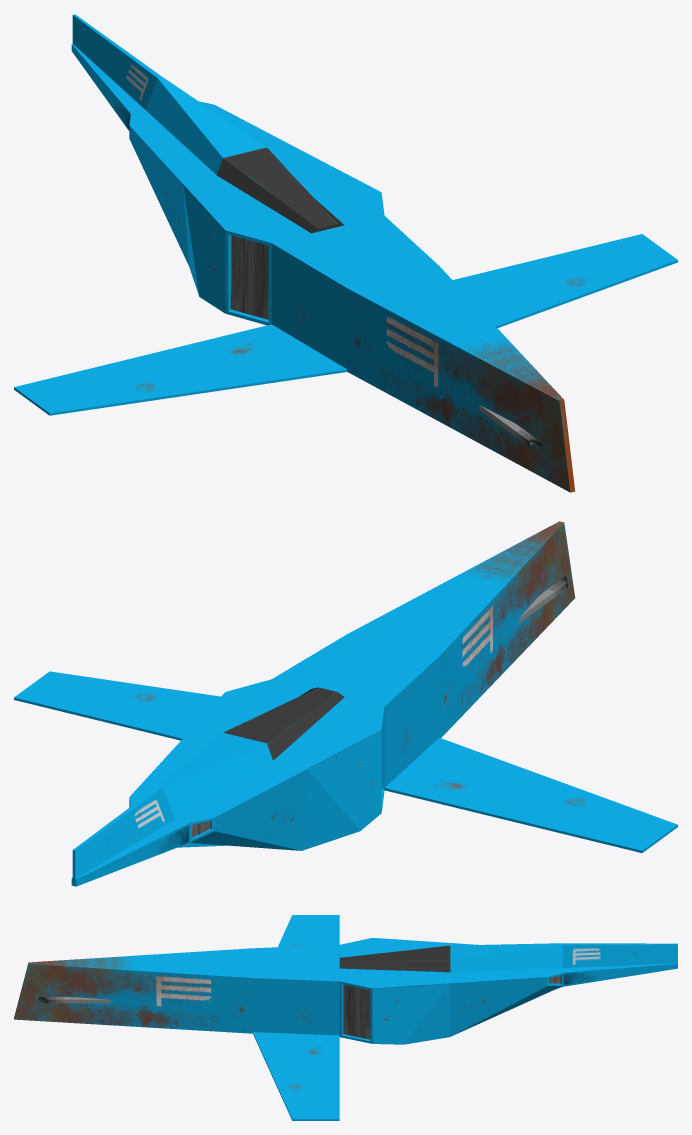
The model's file is craft1-final.fbx.
3 renders of one model, top to bottom at view 1: azimuth 30°, elevation 25°; view 2: azimuth 150°, elevation 25°; view 3: azimuth 270°, elevation 25°, orthographic. The views are drawn at different scales.
Parts seen in each view (by area): view 1: Cube.001; view 2: Cube.001; view 3: Cube.001.
Part boxes in pixels (x1,y1,x2,y2): Cube.001: (14, 14, 677, 492); Cube.001: (14, 521, 677, 886); Cube.001: (14, 915, 677, 1120).
Bounding box in the file's own units: 1114 × 190 × 1531.
Materials: 1 (1 with a texture image).
